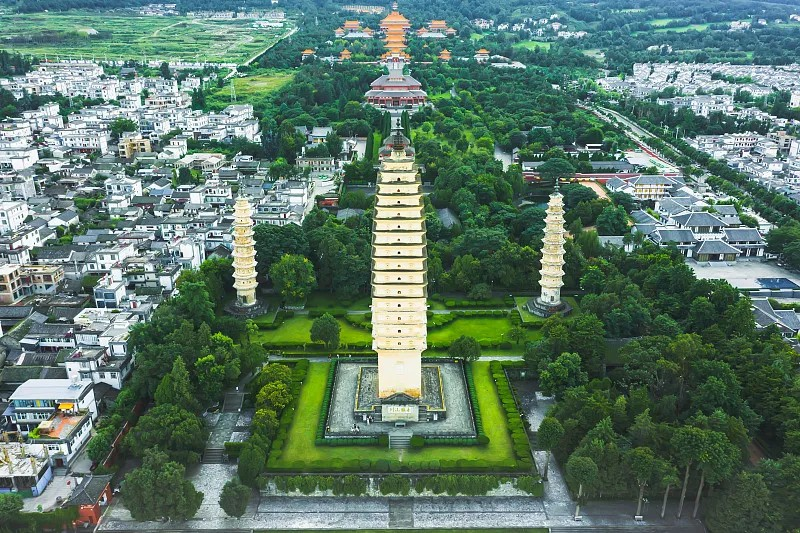ThreePagoda: (371, 120, 428, 396)
